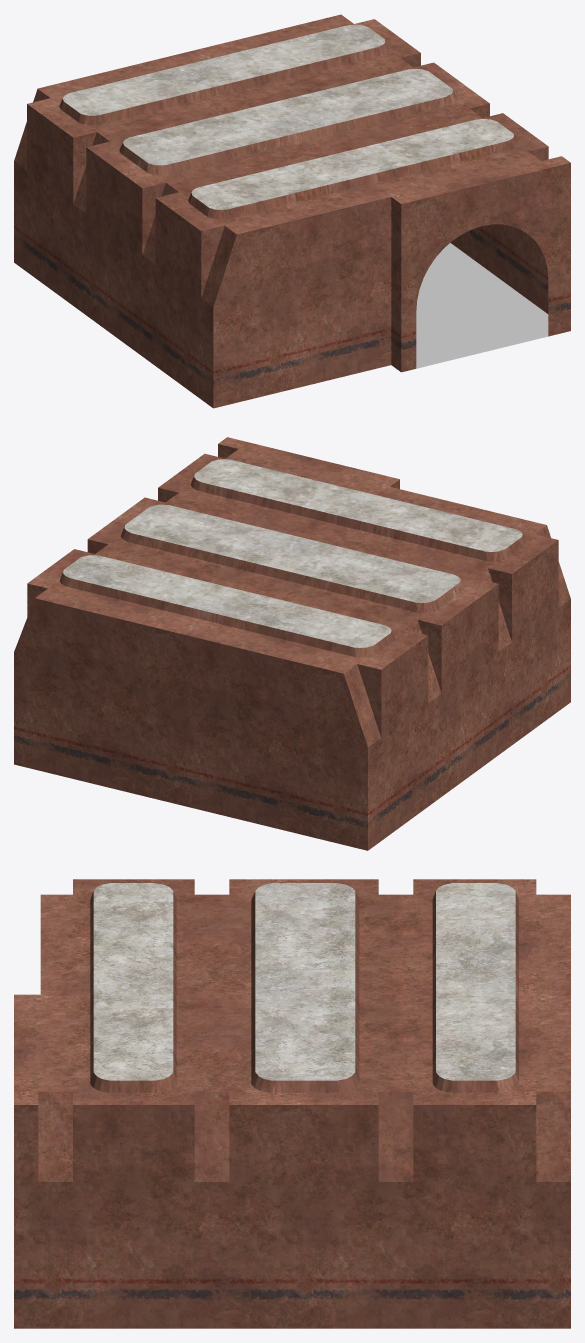
Rendered from thm_nboo_cantina_r13_private_room2_mesh_r13.fbx.
3 views of the same model, one above another, from view 1: azimuth 30°, elevation 25°; view 2: azimuth 150°, elevation 25°; view 3: azimuth 270°, elevation 25° (orthographic). The views are drawn at different scales.
Parts seen in each view (by area): view 1: mesh_node; view 2: mesh_node; view 3: mesh_node.
Boxes of the visible parts, <box> form: mesh_node: <box>14,14,570,408</box>; mesh_node: <box>14,437,570,850</box>; mesh_node: <box>14,879,570,1328</box>.
Bounding box in the file's own units: 10 × 4.84 × 10.44.
